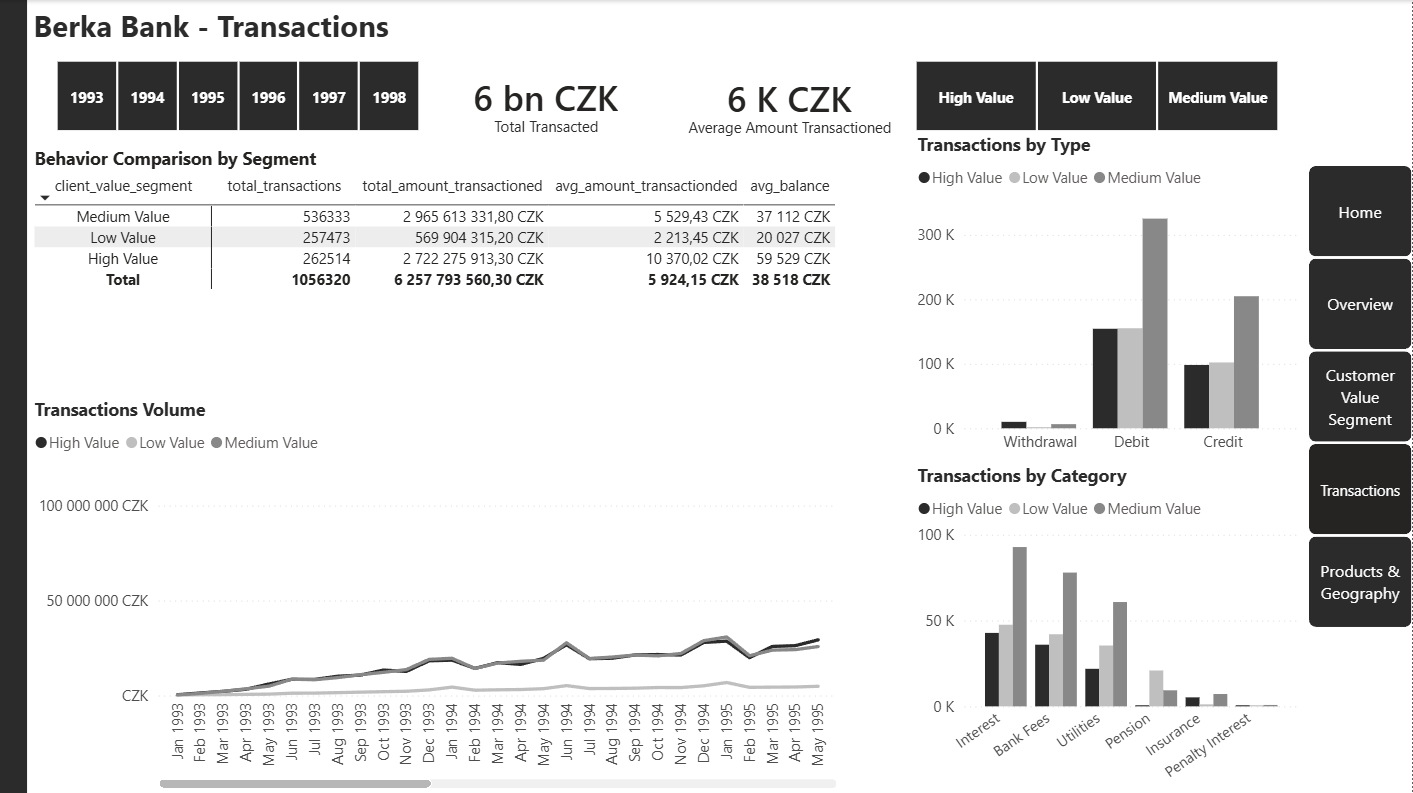

What the dashboard file says about the page in this screenshot:
{"tool":"powerbi","page":{"name":"Transactions","canvas":[1280,720],"ordinal":3},"visuals":[{"type":"shape","box":[0,0,24.5,720.2],"z":0},{"type":"cardVisual","title":"Total Clients (Owners)","fields":{"Data":["_medidas.total_amount_transactioned"]},"box":[384.6,42.7,221.4,88],"z":0,"group":"g1"},{"type":"cardVisual","title":"Total Clients (Owners)","fields":{"Data":["_medidas.avg_amount_transactionded"]},"box":[606.2,42.9,220.9,88.7],"z":0,"group":"g2"},{"type":"textbox","box":[384.5,101,221.8,27.3],"z":1000,"group":"g1"},{"type":"textbox","box":[606.1,101.7,221.2,27.5],"z":1000,"group":"g2"},{"type":"pageNavigator","box":[1186.8,150.8,93.4,418.4],"z":1000},{"type":"textbox","box":[25.7,0,333.8,48.6],"z":2000},{"type":"slicer","fields":{"Values":["calendar.year"]},"box":[26,49,377,76],"z":3000},{"type":"lineChart","title":"Transactions Volume","fields":{"Category":["calendar.monthYear"],"Y":["_medidas.total_amount_transactioned"],"Series":["accounts.client_value_segment"]},"box":[26.4,360,737.3,360],"z":4000},{"type":"group","id":"g1","title":"Grupo 4","box":[384.5,42.7,221.8,88.2],"z":5000,"group":"g3"},{"type":"clusteredColumnChart","title":"Transactions by Type","fields":{"Category":["transactions.type"],"Y":["_medidas.total_transactions"],"Series":["accounts.client_value_segment"]},"box":[827.3,120,355.5,300],"z":5000},{"type":"group","id":"g2","title":"Grupo 4","box":[606.1,42.9,221.3,88],"z":6000,"group":"g3"},{"type":"clusteredColumnChart","title":"Transactions by Category","fields":{"Y":["_medidas.total_transactions"],"Category":["transactions.transaction_category"],"Series":["accounts.client_value_segment"]},"box":[827.3,420,355.5,300],"z":6000},{"type":"slicer","fields":{"Values":["accounts.client_value_segment"]},"box":[805,49,377,76],"z":7000},{"type":"pivotTable","title":"Behavior Comparison by Segment","fields":{"Values":["_medidas.total_transactions","_medidas.total_amount_transactioned","_medidas.avg_amount_transactionded","_medidas.avg_balance"],"Rows":["accounts.client_value_segment"]},"box":[26.6,131.9,737.6,144.8],"z":8000},{"type":"group","id":"g3","title":"Grupo 1","box":[384.5,42.7,442.7,88.2],"z":9000}]}

Visuals, with their boxes in screenshot pixels (x1, y1, x2, y2), scaled from the page's 1280x720 canvas onto the 1413x793 screenshot:
shape: 0/0/27/792
"Total Clients (Owners)" cardVisual: 425/47/669/144
"Total Clients (Owners)" cardVisual: 669/47/913/145
textbox: 424/111/669/141
textbox: 669/112/913/142
pageNavigator: 1310/166/1412/627
textbox: 28/0/397/54
slicer - calendar.year: 29/54/445/138
"Transactions Volume" lineChart: 29/397/843/792
"Grupo 4" group: 424/47/669/144
"Transactions by Type" clusteredColumnChart: 913/132/1306/463
"Grupo 4" group: 669/47/913/144
"Transactions by Category" clusteredColumnChart: 913/463/1306/792
slicer - accounts.client_value_segment: 889/54/1305/138
"Behavior Comparison by Segment" pivotTable: 29/145/844/305
"Grupo 1" group: 424/47/913/144
